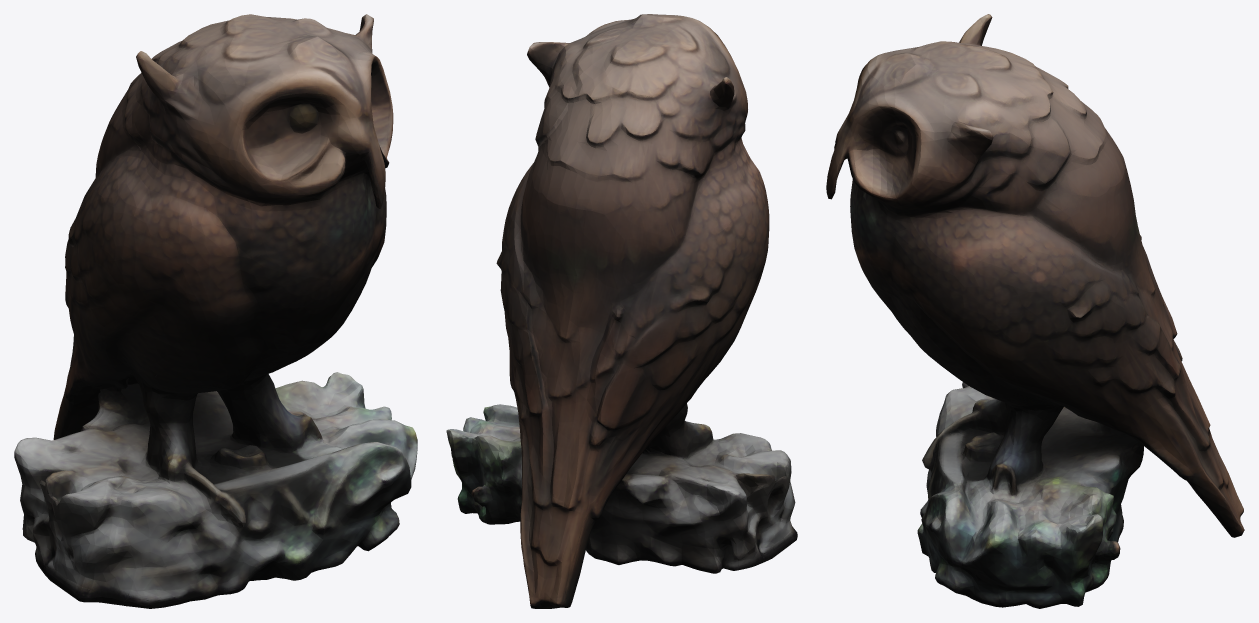
File: owl.glb
3 views of the same model, side by side, from view 1: azimuth 30°, elevation 25°; view 2: azimuth 150°, elevation 25°; view 3: azimuth 270°, elevation 25° (orthographic). The views are drawn at different scales.
Parts seen in each view (by area): view 1: world; view 2: world; view 3: world.
Boxes of the visible parts, x1,y1,x2,y2 form: world: (14, 14, 417, 608); world: (446, 14, 797, 608); world: (826, 14, 1244, 608).
Size of the model in its own units: 0.6796 by 0.9977 by 0.7621.
Materials: 1 (1 with a texture image).
